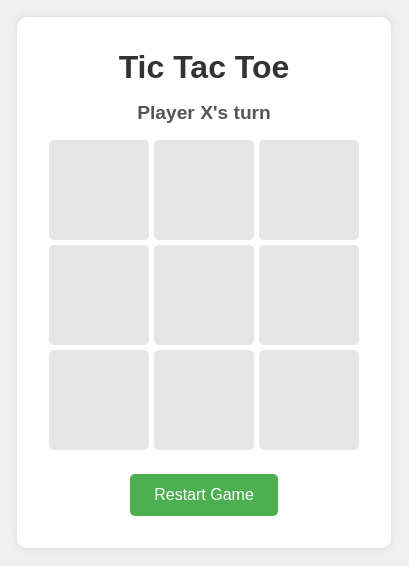
Test: Tic Tac Toe Game › alternates between X and O after each move
This screenshot has width=409, height=566.
# First move - X
Click the element with test id "cell-0" at [99, 190], box [49,140,149,240]
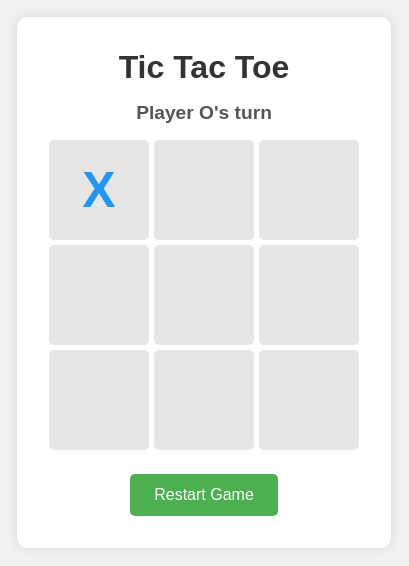
Expected: the text with test id "cell-0" reads "X", [82,162,116,218]
# Second move - O
Click the element with test id "cell-1" at [204, 190], box [154,140,254,240]
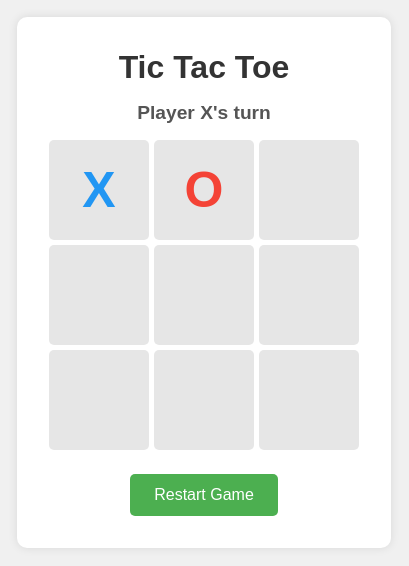
Expected: the text with test id "cell-1" reads "O", [184,162,223,218]
# Third move - X again
Click the element with test id "cell-2" at [309, 190], box [259,140,359,240]
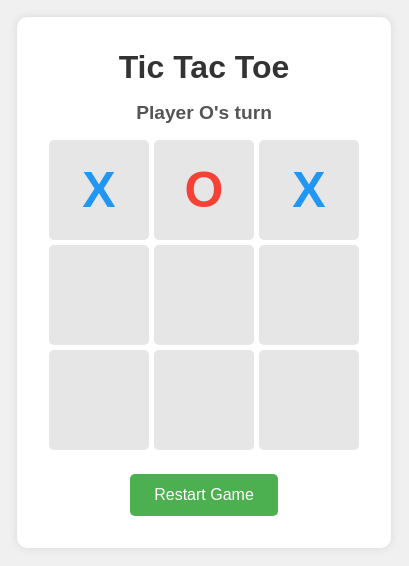
Expected: the text with test id "cell-2" reads "X", [292,162,326,218]
